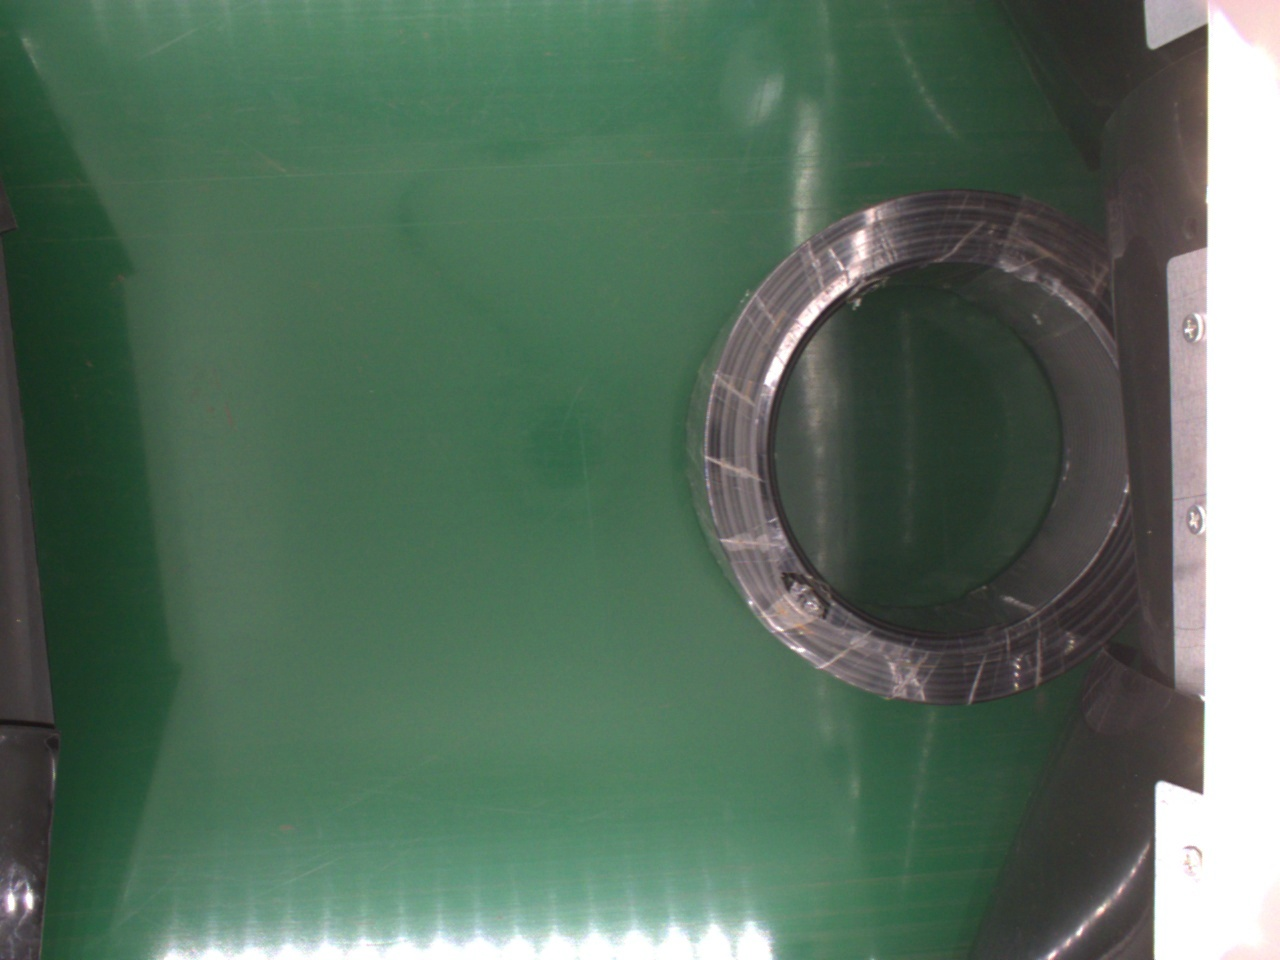black: (685, 192, 1148, 707)
